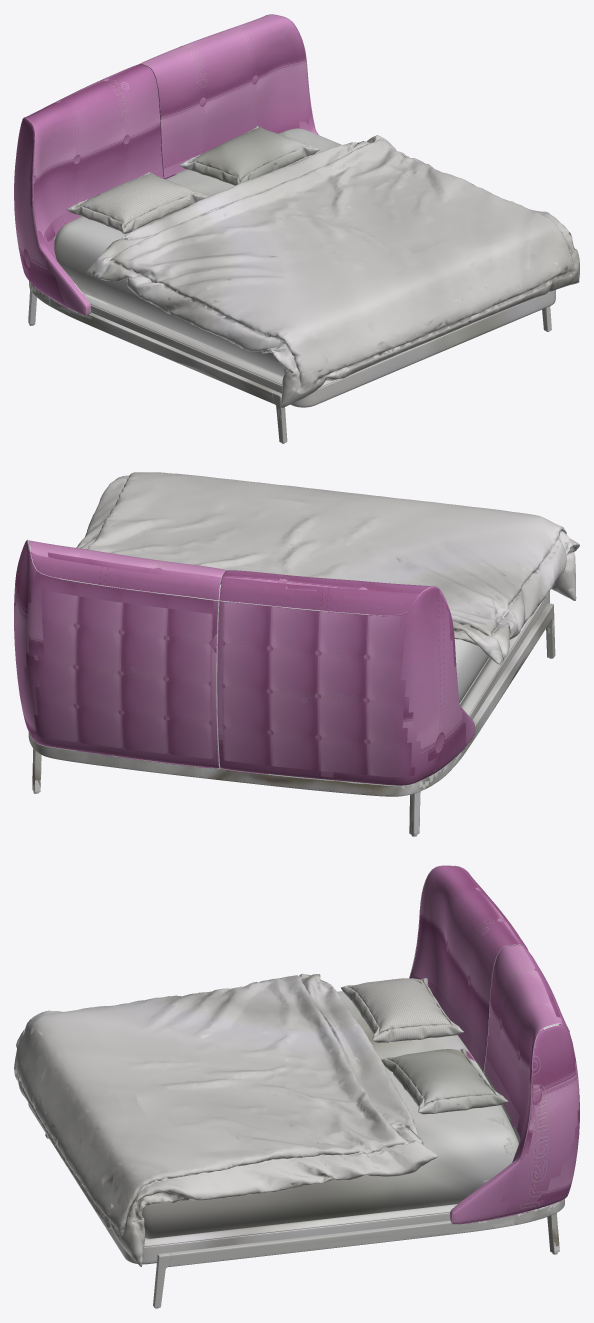
Rendered from bed4final.glb.
3 views of the same model, one above another, from view 1: azimuth 30°, elevation 25°; view 2: azimuth 150°, elevation 25°; view 3: azimuth 270°, elevation 25° (orthographic). The views are drawn at different scales.
Parts seen in each view (by area): view 1: 11; view 2: 11; view 3: 11.
Part boxes in pixels (box(x1,y1,x2,y2)): 11: box(14, 14, 579, 443); 11: box(14, 472, 579, 836); 11: box(14, 865, 579, 1308).
Bounding box in the file's own units: 8.73 × 4.14 × 9.12.
3 materials, 2 textured.
